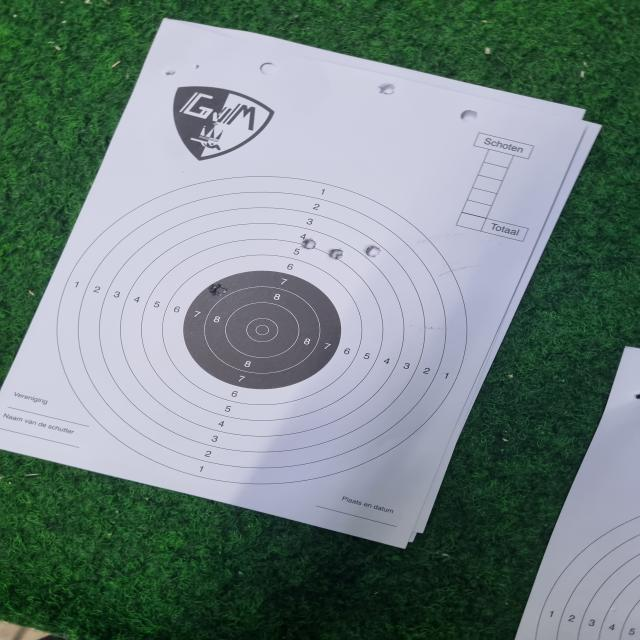3: (363, 246, 382, 257)
5: (328, 249, 344, 259), (302, 239, 317, 249)
7: (209, 284, 227, 296)
Target: (56, 176, 469, 484)
black_contour: (184, 272, 346, 387)
